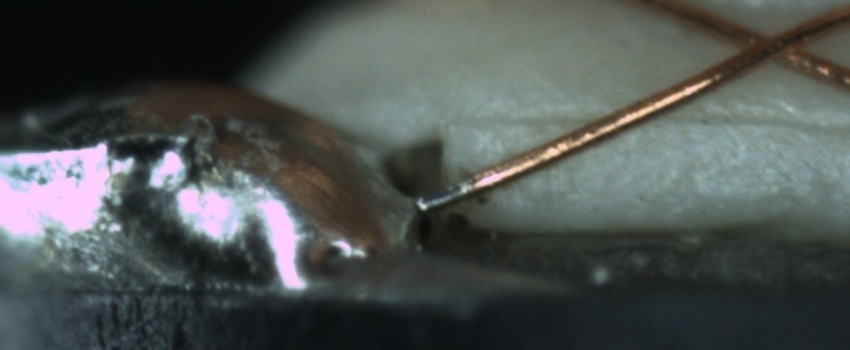CL: (722, 14, 824, 74)
DL: (453, 89, 849, 153)
TS: (415, 179, 470, 215)
